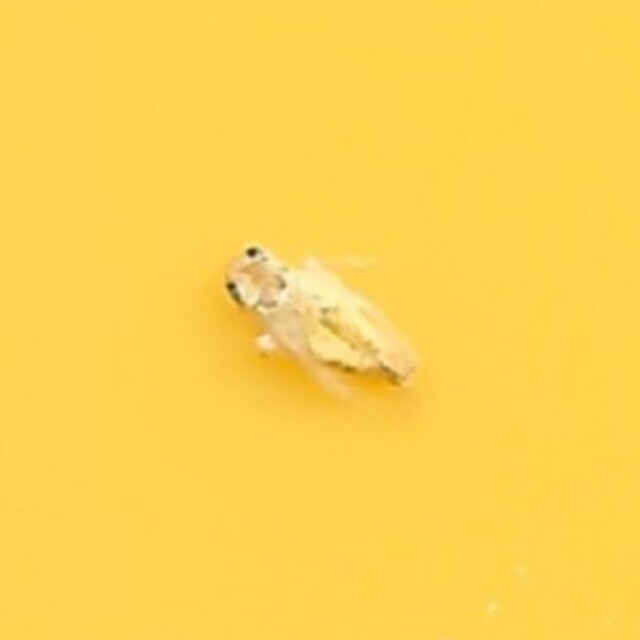Hemiptera: (208, 224, 432, 416)
